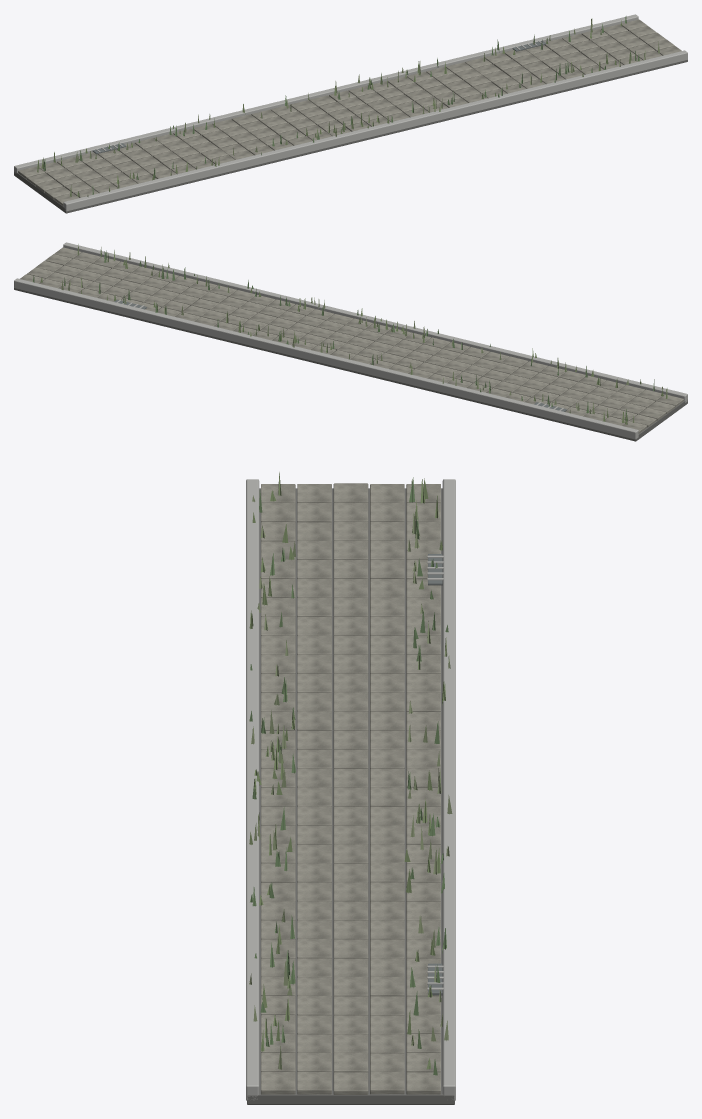
The model's file is r6b2d-przejscie-plyty-12m.glb.
3 views of the same model, one above another, from view 1: azimuth 30°, elevation 25°; view 2: azimuth 150°, elevation 25°; view 3: azimuth 270°, elevation 25° (orthographic). The views are drawn at different scales.
Parts seen in each view (by area): view 1: R6b2d Plyta kamienna PBR UV, R6b2d Obrzeze betonowe, R6b2d Naturalny spoiwo, R6b2d Zdzbla 0, R6b2d Zdzbla 1, R6b2d Zdzbla 2; view 2: R6b2d Plyta kamienna PBR UV, R6b2d Obrzeze betonowe, R6b2d Naturalny spoiwo, R6b2d Zdzbla 1, R6b2d Zdzbla 0, R6b2d Zdzbla 2; view 3: R6b2d Plyta kamienna PBR UV, R6b2d Obrzeze betonowe, R6b2d Naturalny spoiwo, R6b2d Zdzbla 0, R6b2d Zdzbla 1, R6b2d Zdzbla 2.
Part boxes in pixels (x1,y1,x2,y2): R6b2d Plyta kamienna PBR UV: (18, 19, 681, 205); R6b2d Obrzeze betonowe: (14, 14, 687, 211); R6b2d Naturalny spoiwo: (14, 60, 687, 213); R6b2d Zdzbla 0: (43, 16, 639, 194); R6b2d Zdzbla 1: (37, 20, 645, 196); R6b2d Zdzbla 2: (37, 18, 659, 196); R6b2d Plyta kamienna PBR UV: (20, 247, 683, 433); R6b2d Obrzeze betonowe: (14, 242, 687, 439); R6b2d Naturalny spoiwo: (14, 288, 687, 441); R6b2d Zdzbla 1: (40, 247, 667, 424); R6b2d Zdzbla 0: (33, 250, 654, 421); R6b2d Zdzbla 2: (61, 244, 662, 422); R6b2d Plyta kamienna PBR UV: (261, 483, 440, 1094); R6b2d Obrzeze betonowe: (246, 479, 455, 1100); R6b2d Naturalny spoiwo: (247, 488, 454, 1104); R6b2d Zdzbla 0: (249, 477, 448, 1075); R6b2d Zdzbla 1: (249, 472, 445, 1069); R6b2d Zdzbla 2: (249, 479, 452, 1069).
Bounding box in the file's own units: 12 × 0.3834 × 1.75.
Materials: 7 (1 with a texture image).
